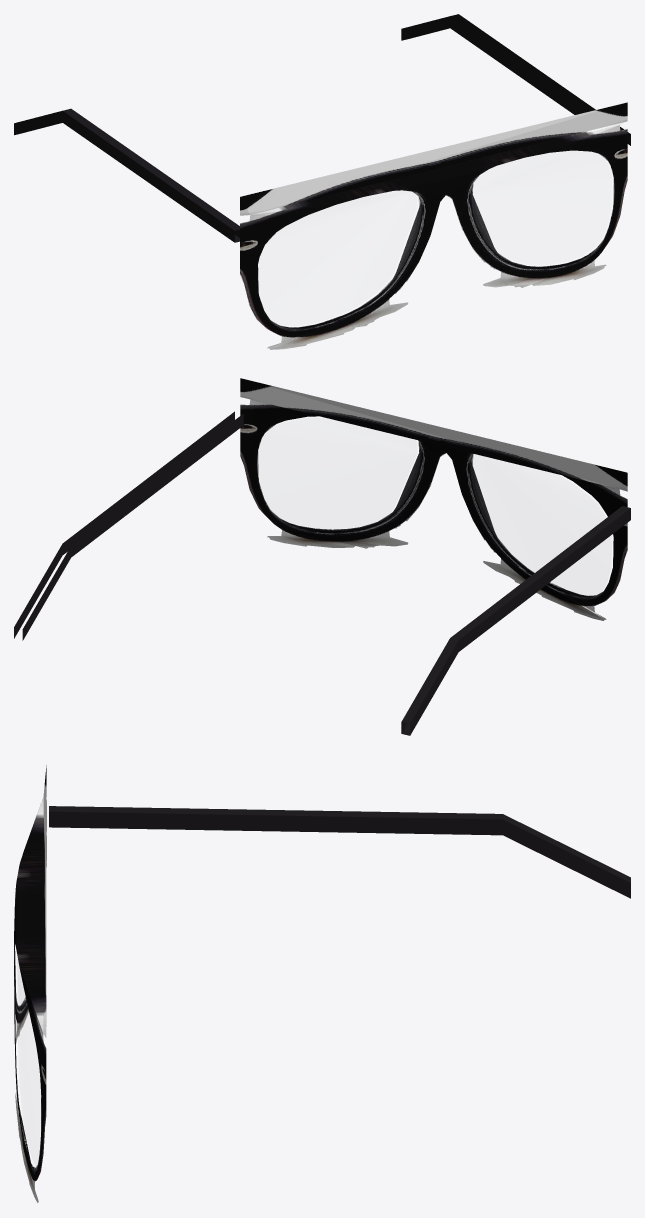
File: gothamstyle-matte-253_matte-black.glb
The picture shows the model from 3 angles, top to bottom: view 1: azimuth 30°, elevation 25°; view 2: azimuth 150°, elevation 25°; view 3: azimuth 270°, elevation 25°; orthographic projection. The views are drawn at different scales.
Parts seen in each view (by area): view 1: frame_front, temple_viewer_left, temple_viewer_right; view 2: frame_front, temple_viewer_left, temple_viewer_right; view 3: temple_viewer_left, frame_front.
Boxes of the visible parts, x1,y1,x2,y2 form: frame_front: [240, 102, 627, 349]; temple_viewer_left: [14, 108, 239, 242]; temple_viewer_right: [401, 14, 630, 145]; frame_front: [240, 378, 627, 620]; temple_viewer_left: [401, 506, 630, 735]; temple_viewer_right: [14, 411, 243, 640]; temple_viewer_left: [49, 806, 630, 898]; frame_front: [14, 765, 46, 1202].
Bounding box in the file's own units: 0.1377 × 0.0528 × 0.141.
Materials: 3 (2 with a texture image).
